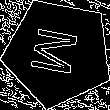M_E: (29, 26, 88, 80)
